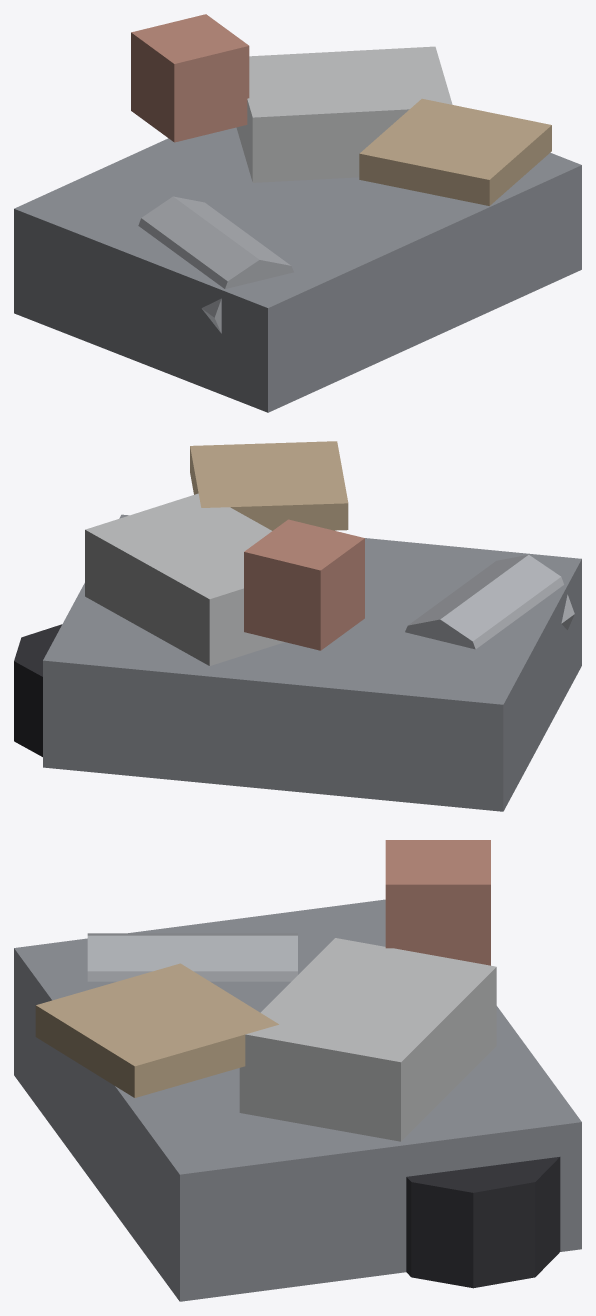
File: Hurda_Yigini.glb
3 renders of one model, top to bottom at view 1: azimuth 30°, elevation 25°; view 2: azimuth 150°, elevation 25°; view 3: azimuth 270°, elevation 25°, orthographic. The views are drawn at different scales.
Visible parts, largest first — view 1: Hurda_Yigini; view 2: Hurda_Yigini; view 3: Hurda_Yigini.
Part boxes in pixels (<box>): Hurda_Yigini: <box>14,14,581,412</box>; Hurda_Yigini: <box>14,441,581,811</box>; Hurda_Yigini: <box>14,840,581,1301</box>.
Size of the model in its own units: 1.88 by 0.85 by 1.62.
